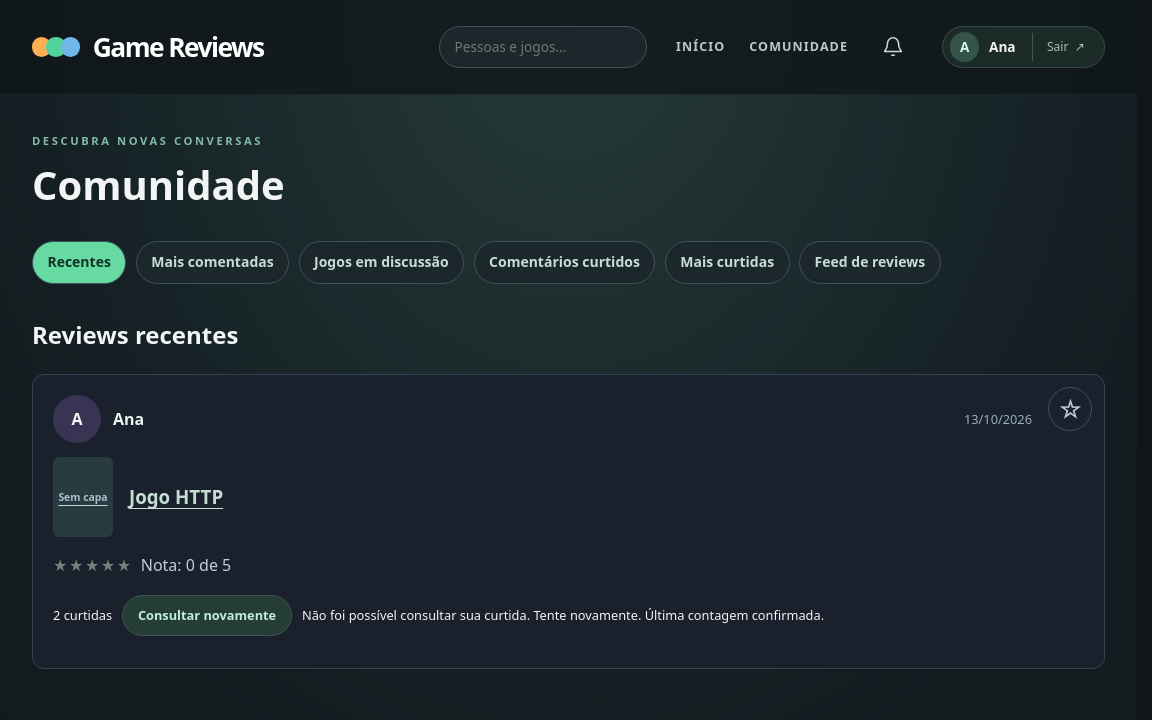
Test case: falha de consulta pessoal permite retry sem escrita
Step 1. Click the button with aria-label "Tentar novamente curtida da review de Ana" → x=207, y=615, box 122,595 -> 292,636
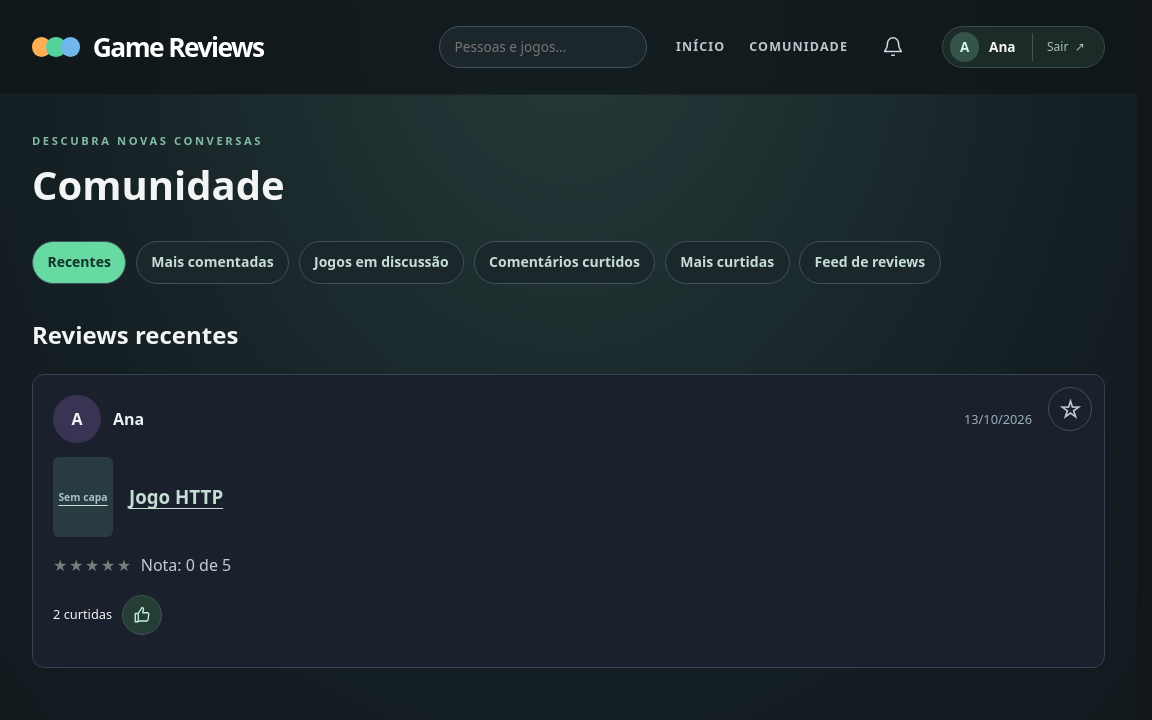
Check: the button named "Curtir review de Ana" is shown, box 122,595 -> 162,635
